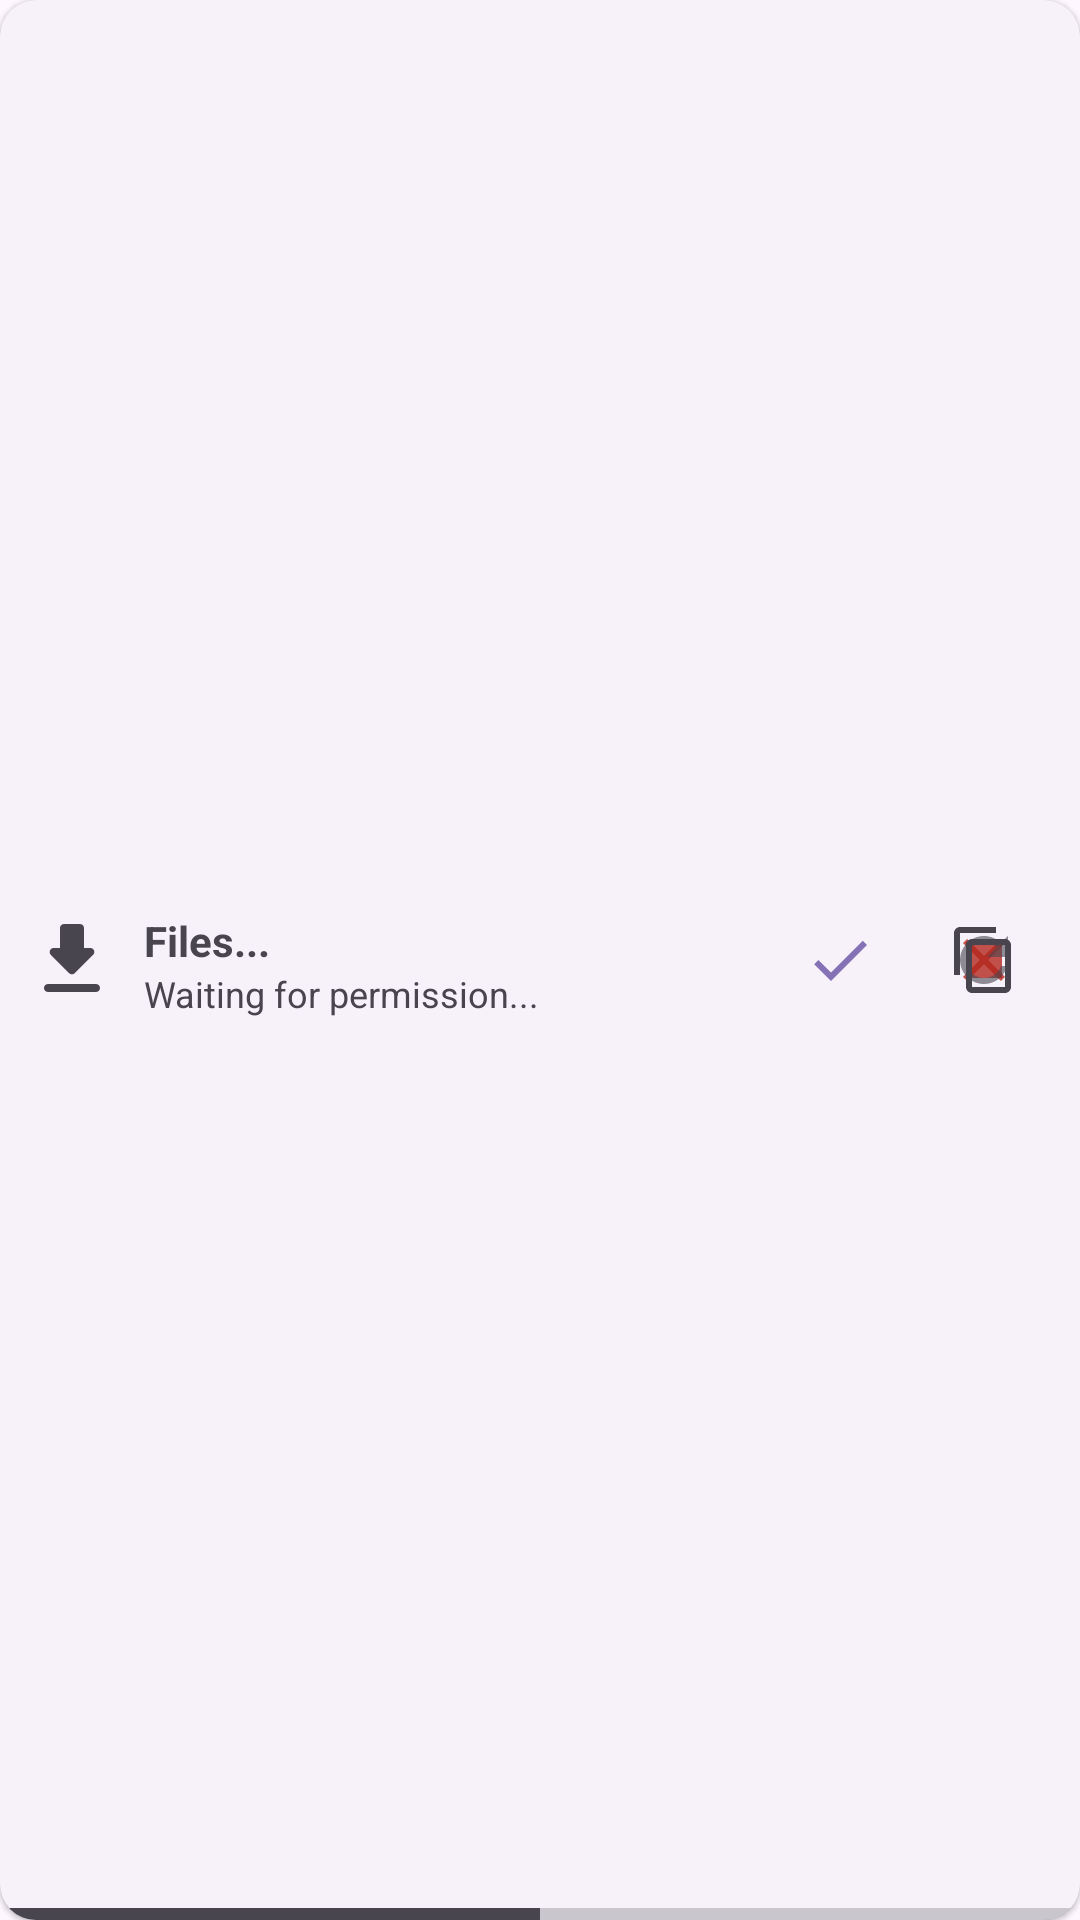

Where icons sit on this 1080*1920 app screen, as (x1, y1, x2, y2):
Accept the transfer: (814, 941, 867, 981)
download: (44, 924, 100, 992)
